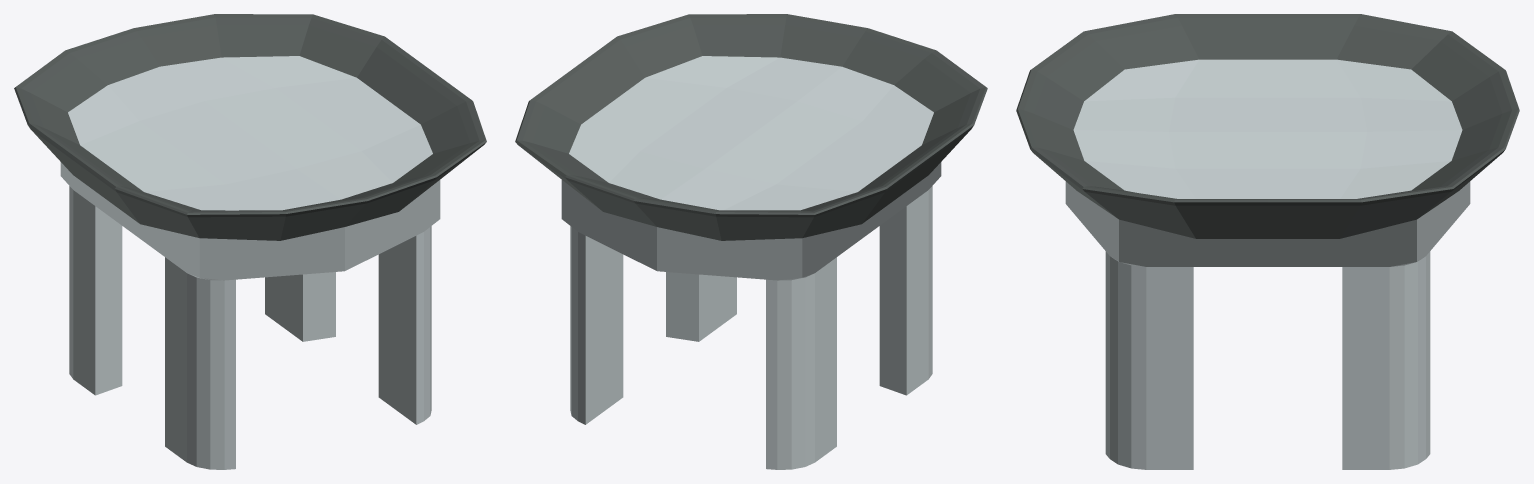
Rendered from Rocket-Platform.fbx.
3 views of the same model, side by side, from view 1: azimuth 30°, elevation 25°; view 2: azimuth 150°, elevation 25°; view 3: azimuth 270°, elevation 25° (orthographic). The views are drawn at different scales.
Parts seen in each view (by area): view 1: Cube; view 2: Cube; view 3: Cube.
Boxes of the visible parts, x1,y1,x2,y2 form: Cube: (14,14,486,469); Cube: (515,14,987,469); Cube: (1016,14,1519,469).
Size of the model in its own units: 917 by 685 by 1042.
